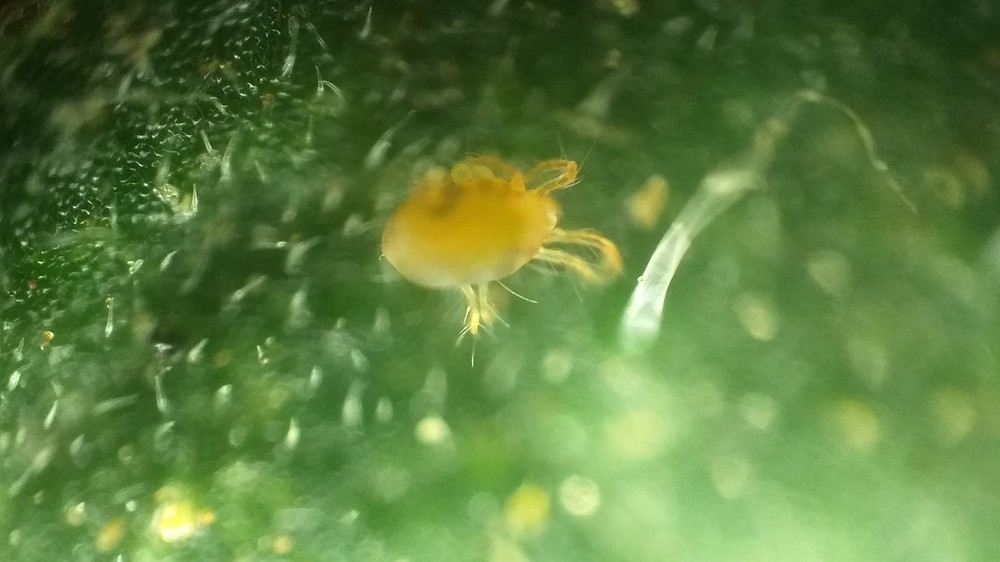Aracnido Rojo: (361, 132, 651, 378)
